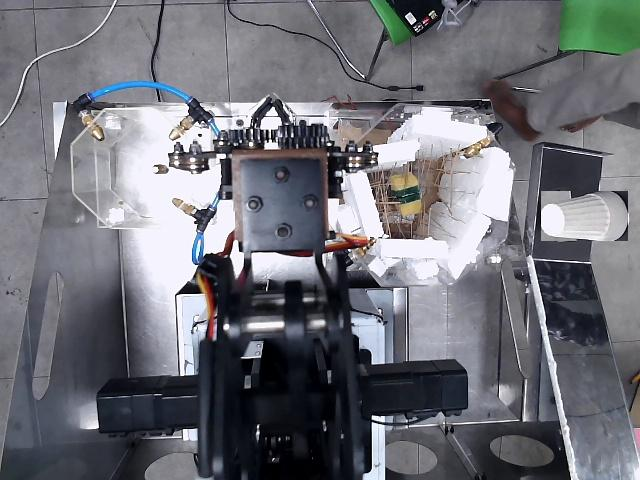cup: (541, 191, 628, 241)
